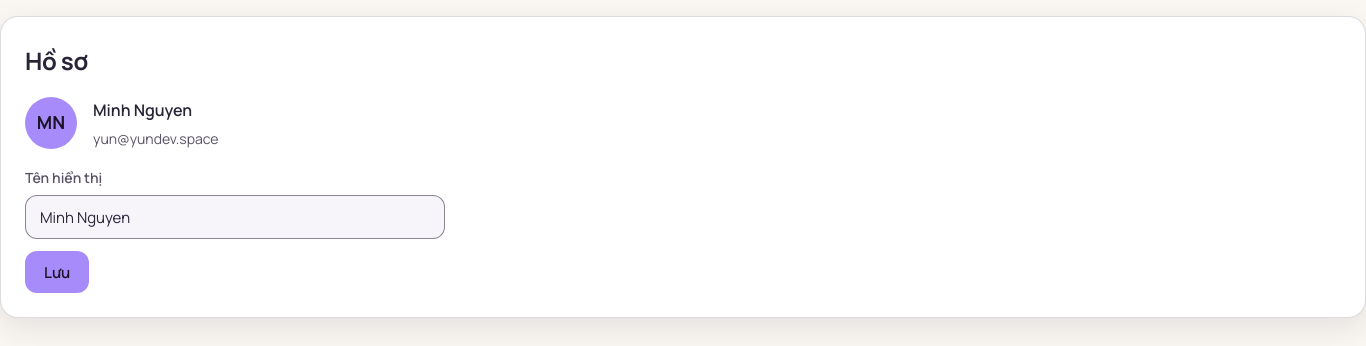
ProfilePage › renders initials, display name, email, and saves successfully
Expected: the text "MN" is shown, [25,97,77,149]
Expected: the text "Minh Nguyen" is shown, [93,99,192,121]
Step 1. Replace the text in the field labelled "Tên hiển thị" with "Yun Updated" → coordinates (235, 217), box [25,195,445,239]
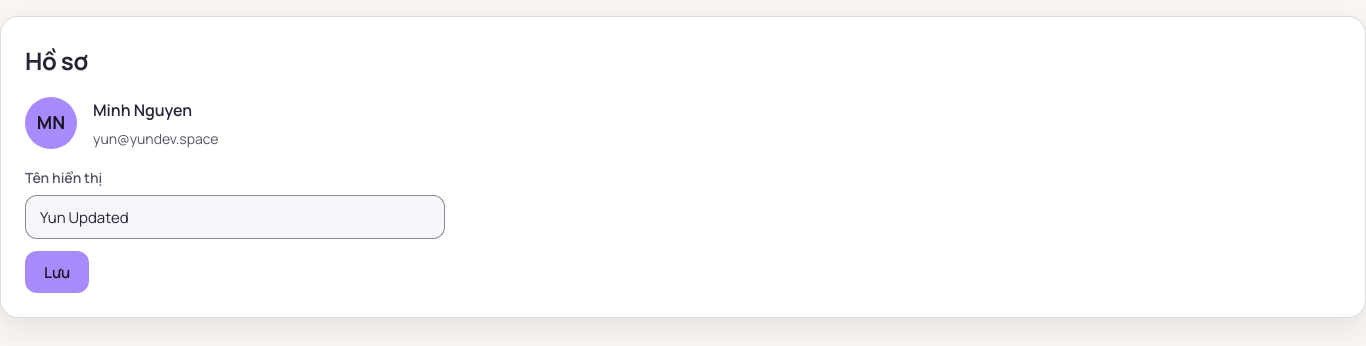
Step 2. Click the button "Lưu" → coordinates (57, 272), box [25,251,89,293]
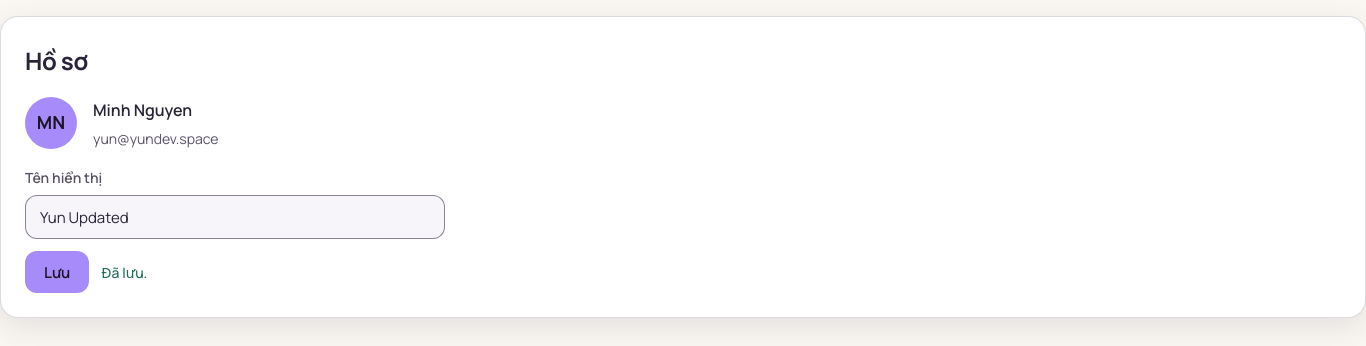
Now the message reads "Đã lưu.", box [101,263,147,282]
